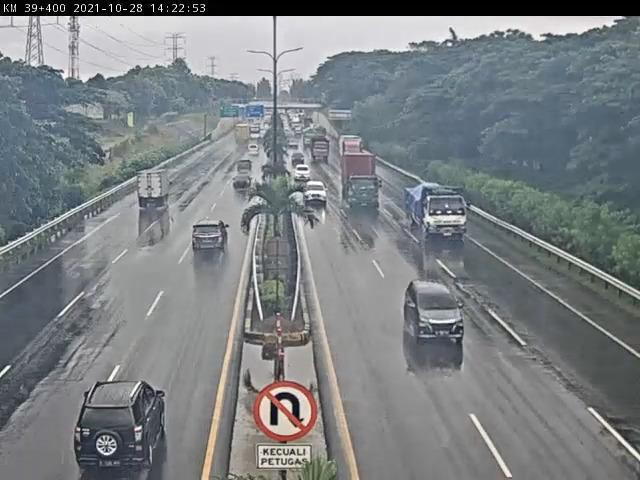truck: (404, 183, 471, 241), (341, 153, 383, 214), (135, 168, 173, 212)
